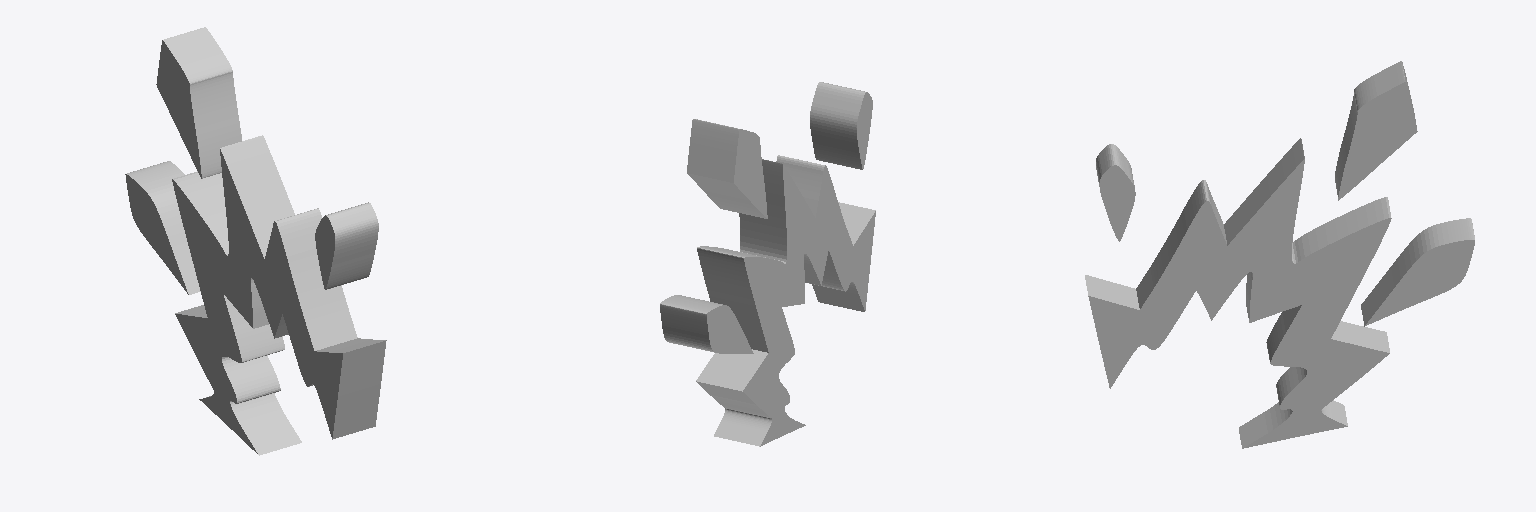
The model's file is spreadshot_icon.obj.
3 views of the same model, side by side, from view 1: azimuth 30°, elevation 25°; view 2: azimuth 150°, elevation 25°; view 3: azimuth 270°, elevation 25° (orthographic).
Parts seen in each view (by area): view 1: Curve.025; view 2: Curve.025; view 3: Curve.025.
Part boxes in pixels (left/top/right/bottom): Curve.025: left=125, top=27, right=386, bottom=455; Curve.025: left=660, top=82, right=875, bottom=446; Curve.025: left=1085, top=61, right=1474, bottom=448.
Size of the model in its own units: 0.1112 by 0.5528 by 0.5432.